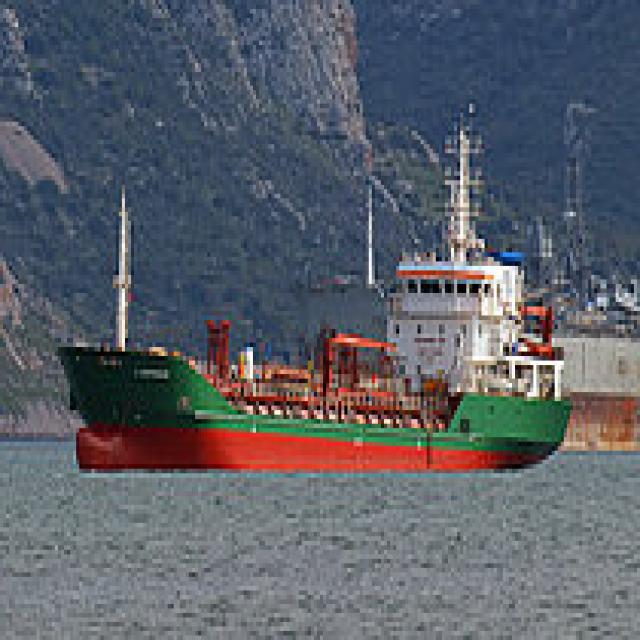Tanker: (55, 108, 576, 473)
